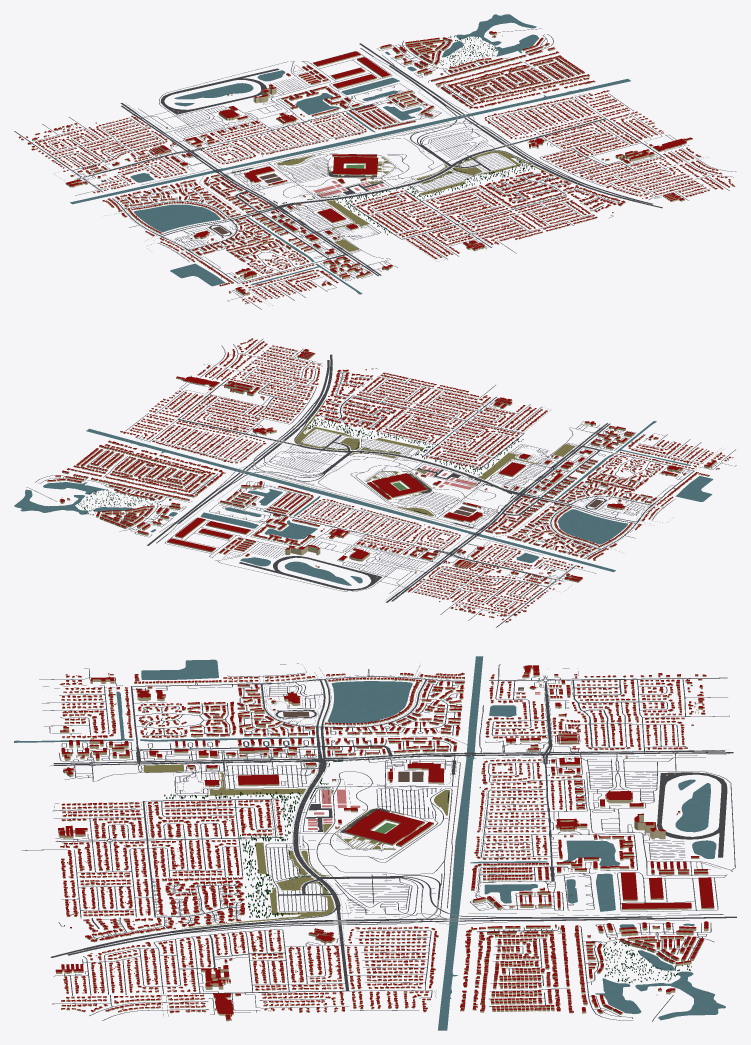
File: miami.glb
3 renders of one model, top to bottom at view 1: azimuth 30°, elevation 25°; view 2: azimuth 150°, elevation 25°; view 3: azimuth 270°, elevation 25°, orthographic. The views are drawn at different scales.
Visible parts, largest first — view 1: cell_-1_-1, cell_-1_0, cell_0_0, cell_0_-1, cell_-2_0, cell_1_-1, cell_-2_-1, cell_1_0, cell_0_-2, cell_0_1, cell_-1_-2, cell_-2_1 (+4 smaller); view 2: cell_-1_-1, cell_-1_0, cell_0_0, cell_0_-1, cell_-2_0, cell_1_-1, cell_-2_-1, cell_1_0, cell_0_-2, cell_0_1, cell_-1_-2, cell_-2_1 (+4 smaller); view 3: cell_-1_0, cell_-1_-1, cell_-2_0, cell_0_0, cell_0_-1, cell_1_-1, cell_-2_-1, cell_1_0, cell_0_-2, cell_-1_-2, cell_0_1, cell_1_-2 (+4 smaller).
Part boxes in pixels (x1,y1,x2,y2): cell_-1_-1: (158,103,391,195); cell_-1_0: (239,159,458,255); cell_0_0: (378,121,595,219); cell_0_-1: (297,67,536,159); cell_-2_0: (129,196,314,285); cell_1_-1: (437,40,630,126); cell_-2_-1: (53,137,237,222); cell_1_0: (518,102,703,185); cell_0_-2: (245,43,434,102); cell_0_1: (461,187,623,253); cell_-1_-2: (120,68,293,135); cell_-2_1: (204,256,362,309); cell_-1_-1: (300,477,515,572); cell_-1_0: (379,421,596,513); cell_0_0: (232,388,455,479); cell_0_-1: (160,444,377,538); cell_-2_0: (518,456,712,544); cell_1_-1: (45,422,239,504); cell_-2_-1: (437,513,619,599); cell_1_0: (137,362,316,452); cell_0_-2: (126,501,299,569); cell_0_1: (322,368,495,421); cell_-1_-2: (241,539,434,602); cell_-2_1: (599,421,736,483); cell_-1_0: (144,746,403,844); cell_-1_-1: (371,737,623,874); cell_-2_0: (142,659,417,748); cell_0_0: (152,839,421,949); cell_0_-1: (353,834,634,971); cell_1_-1: (363,929,623,1030); cell_-2_-1: (331,656,620,759); cell_1_0: (156,933,417,1021); cell_0_-2: (562,833,736,940); cell_-1_-2: (605,747,734,856); cell_0_1: (21,842,158,940); cell_1_-2: (603,936,725,1021).
Size of the model in its own units: 3904 by 38.95 by 3187.
22 materials, 22 textured.
